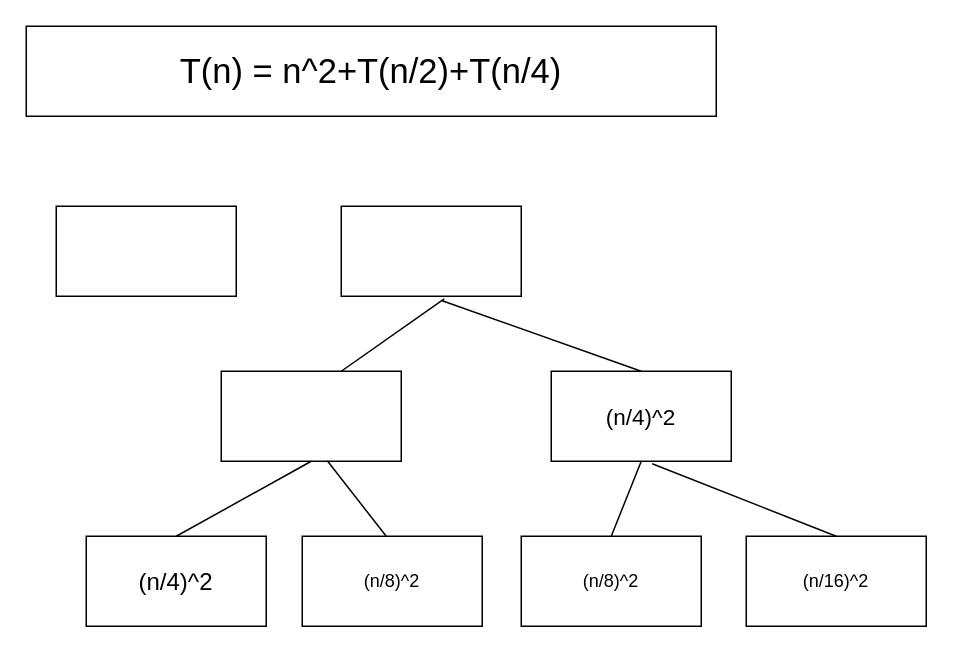
The diagram is 953 pixels wide and 653 high, and some of its shapes have lost their labels. The box of each missing label's shape, as (x1, y1, x2, y2) in pixels:
(n/2)^2: (220, 370, 401, 461)
n^2: (340, 205, 521, 296)
T(n) =: (55, 205, 236, 296)
